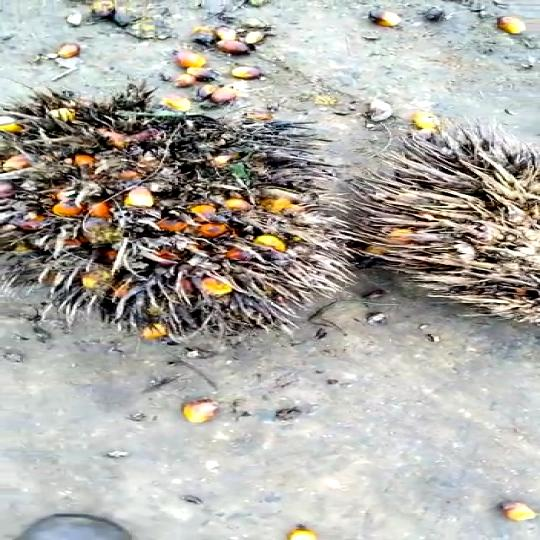terlalu masak: (0, 93, 345, 344), (357, 124, 540, 339)
